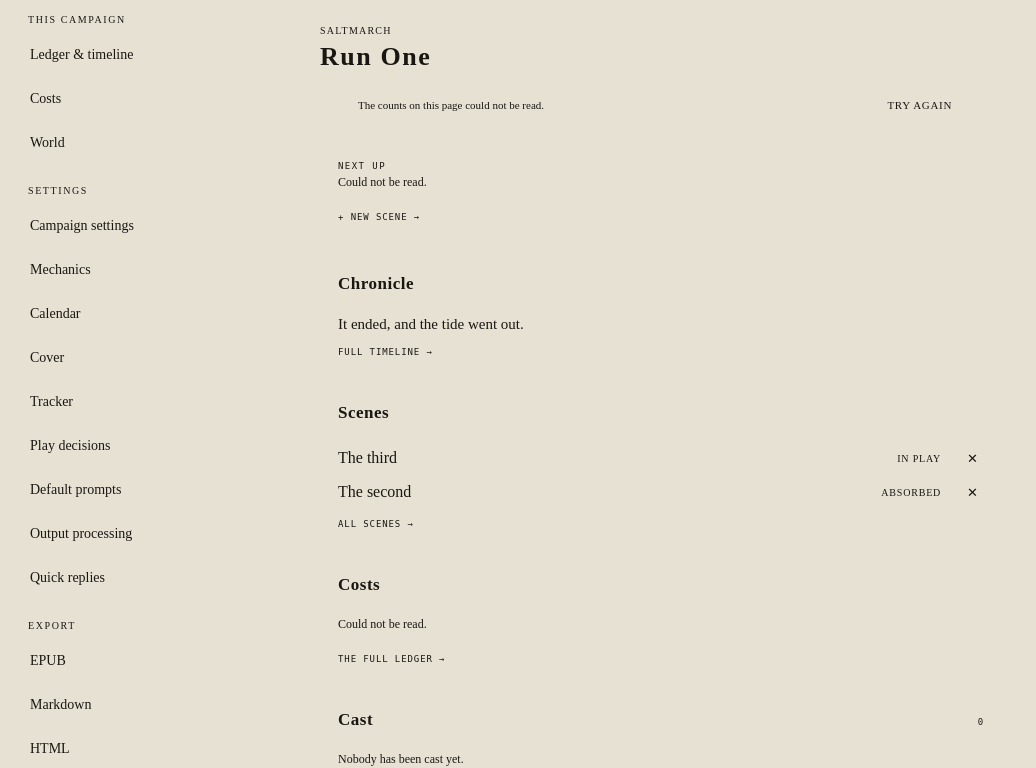
Test: a failed shell read costs the counts, not the page
The image size is (1036, 768).
Expected: the text "The counts on this page could not be read. Try again" is shown, x1=358 y1=93 x2=964 y2=117
Expected: the text "Next up" is shown, x1=338 y1=161 x2=386 y2=171
Click the button "Try again" at (920, 105), box x1=876 y1=93 x2=964 y2=117
(page scrolled)
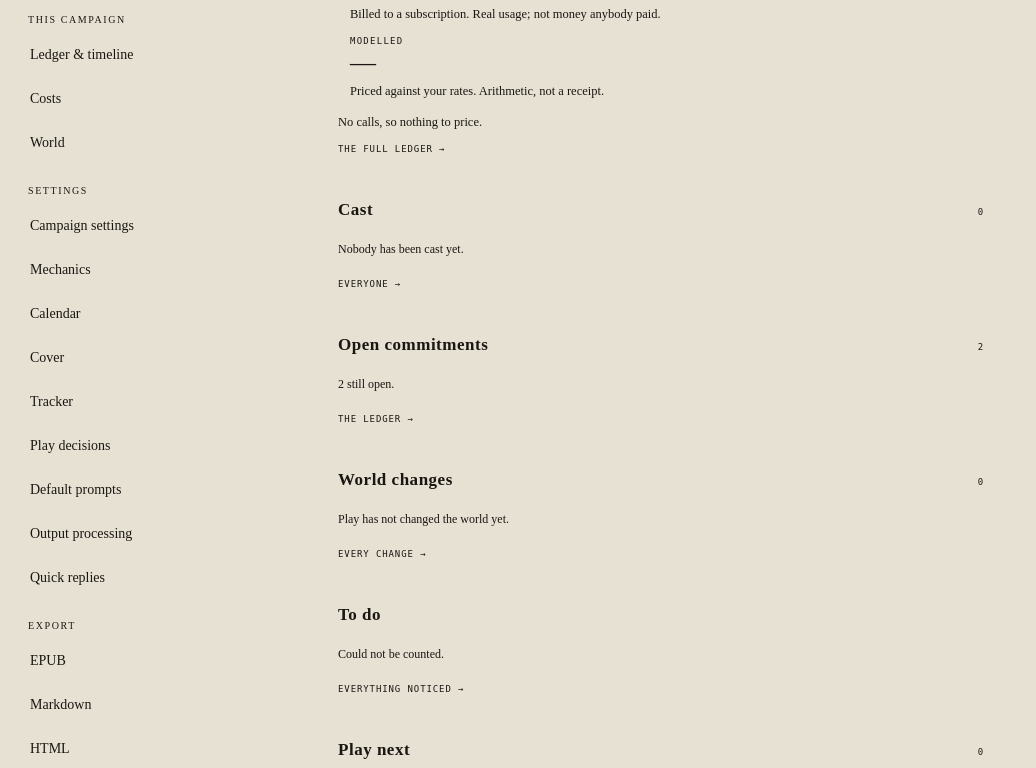
Result: the text "2 still open." is shown at x1=338 y1=376 x2=394 y2=390
Result: the text "counts on this page could not be read" is gone
